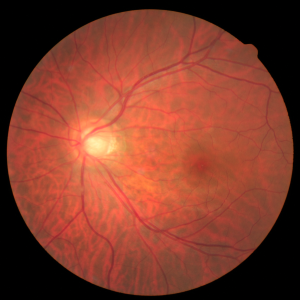glaucoma: (52, 102, 242, 207)
